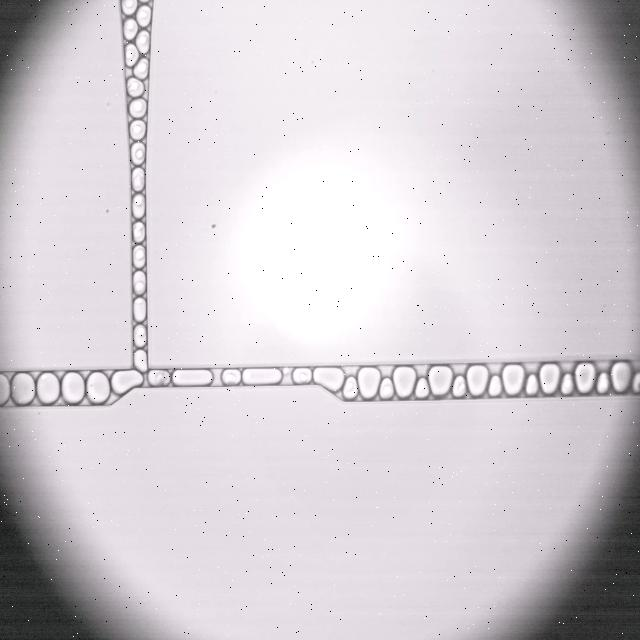L: (129, 99, 147, 118), (136, 30, 150, 54), (127, 78, 144, 97), (125, 44, 139, 67), (133, 298, 147, 321), (343, 376, 357, 399), (130, 120, 146, 140), (133, 58, 148, 79), (149, 370, 169, 385), (133, 245, 146, 268), (133, 271, 146, 294), (131, 143, 145, 164), (379, 378, 393, 399), (452, 376, 466, 397), (133, 194, 145, 218), (222, 369, 241, 384), (137, 6, 151, 26), (415, 378, 429, 398), (132, 168, 144, 191), (133, 325, 146, 346), (134, 350, 147, 371), (488, 375, 501, 396), (525, 374, 538, 395), (293, 368, 311, 383), (124, 19, 137, 39), (596, 373, 609, 393), (561, 374, 573, 395), (121, 0, 137, 15), (133, 222, 145, 242), (632, 372, 640, 393)
S: (111, 370, 143, 395), (313, 367, 344, 392), (12, 373, 35, 405), (87, 372, 110, 403), (502, 364, 525, 395), (37, 372, 59, 404), (358, 367, 380, 399), (429, 366, 453, 395), (62, 372, 84, 403), (393, 367, 415, 397), (539, 364, 560, 394), (173, 370, 212, 386), (243, 368, 282, 384), (575, 363, 595, 394), (467, 366, 488, 395), (611, 362, 631, 392), (0, 373, 10, 406)
